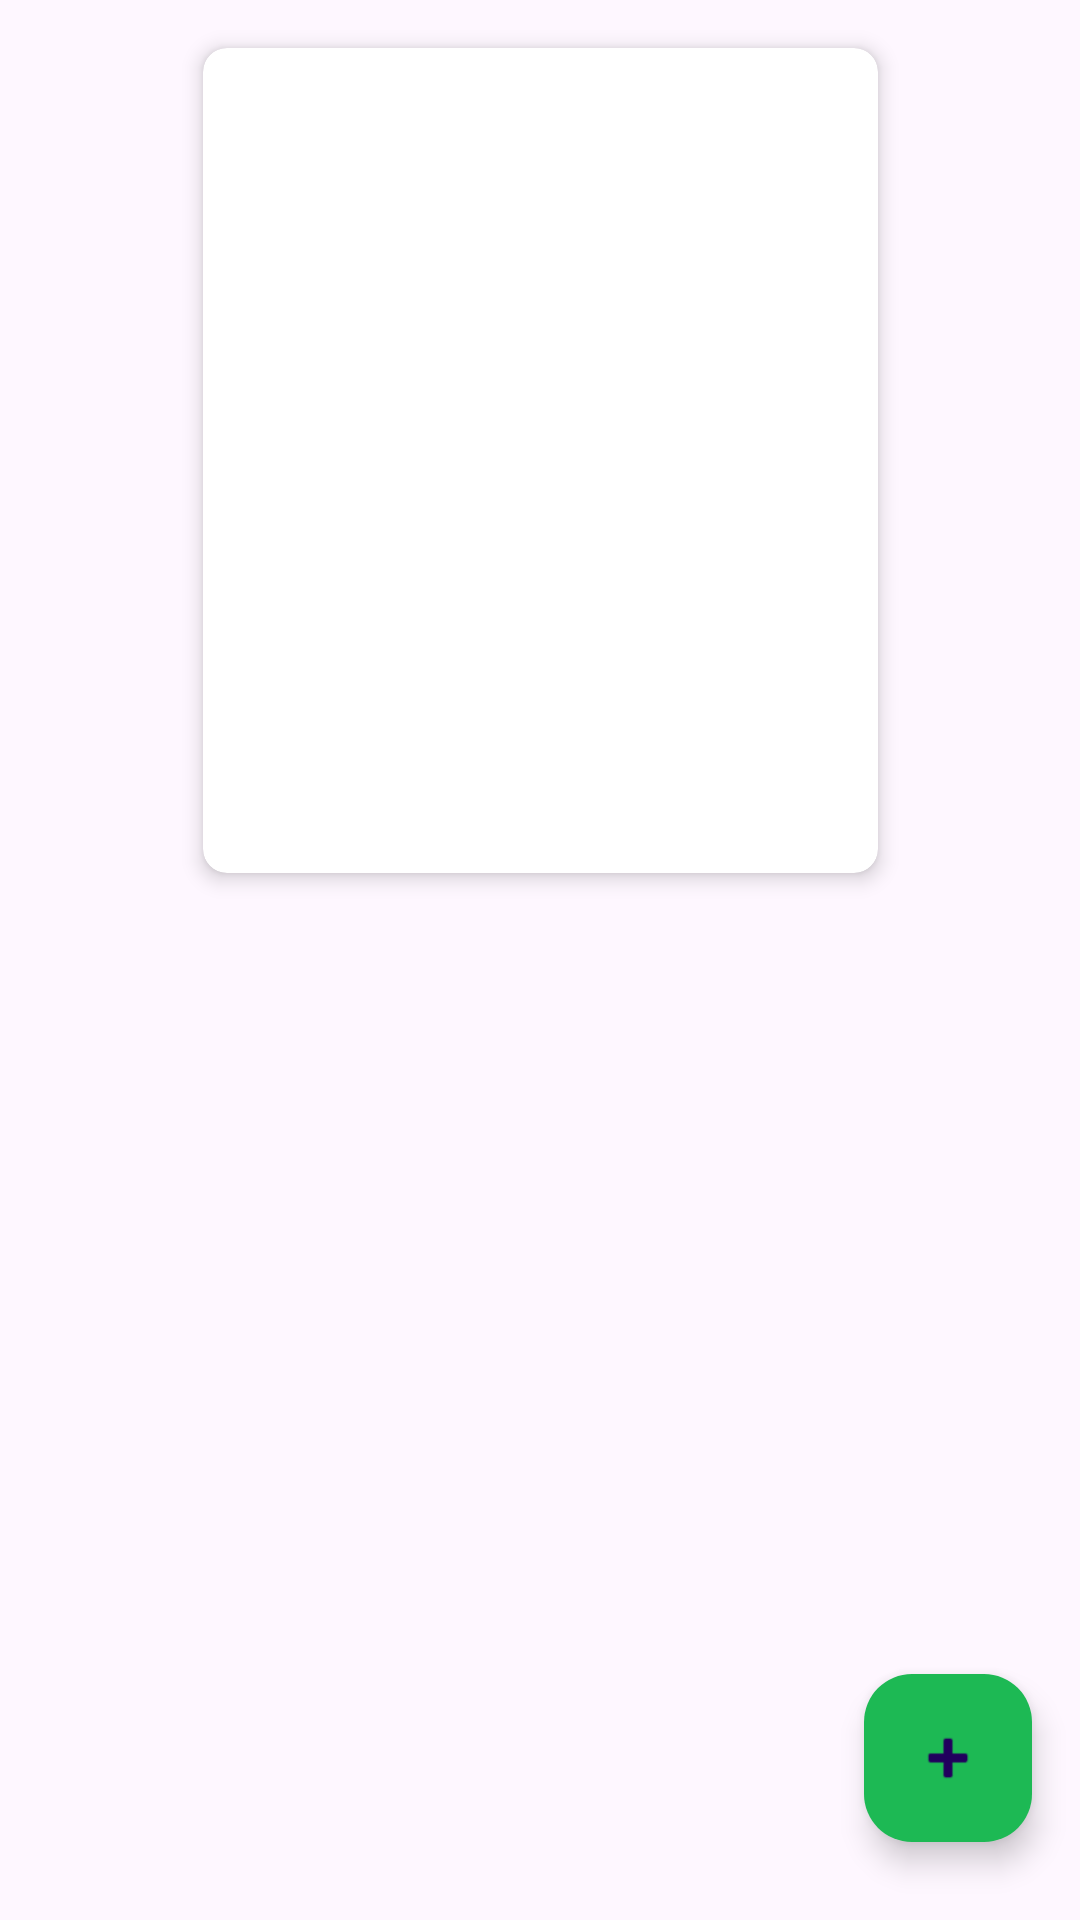

Named icons in this screenshot (1080x1920) and their centers, point (x, y):
add: point (948, 1758)
